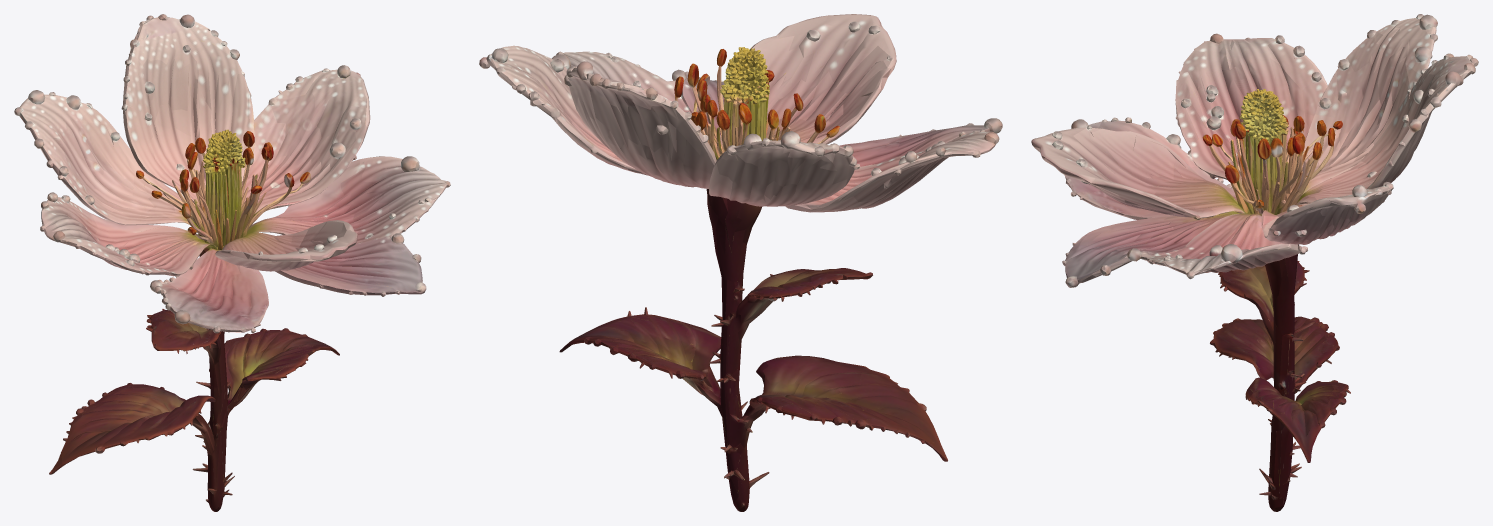
3 views of the same model, side by side, from view 1: azimuth 30°, elevation 25°; view 2: azimuth 150°, elevation 25°; view 3: azimuth 270°, elevation 25° (orthographic). The views are drawn at different scales.
Parts seen in each view (by area): view 1: Mesh_0; view 2: Mesh_0; view 3: Mesh_0.
Part boxes in pixels (x1,y1,x2,y2): Mesh_0: (14, 14, 450, 511); Mesh_0: (479, 14, 1002, 511); Mesh_0: (1031, 14, 1478, 511).
Bounding box in the file's own units: 1.79 × 1.89 × 1.64.
1 material, 1 textured.
